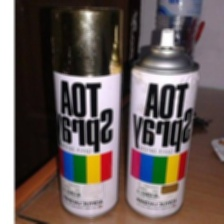aerosol_cans: (45, 2, 128, 222), (123, 26, 202, 223)
